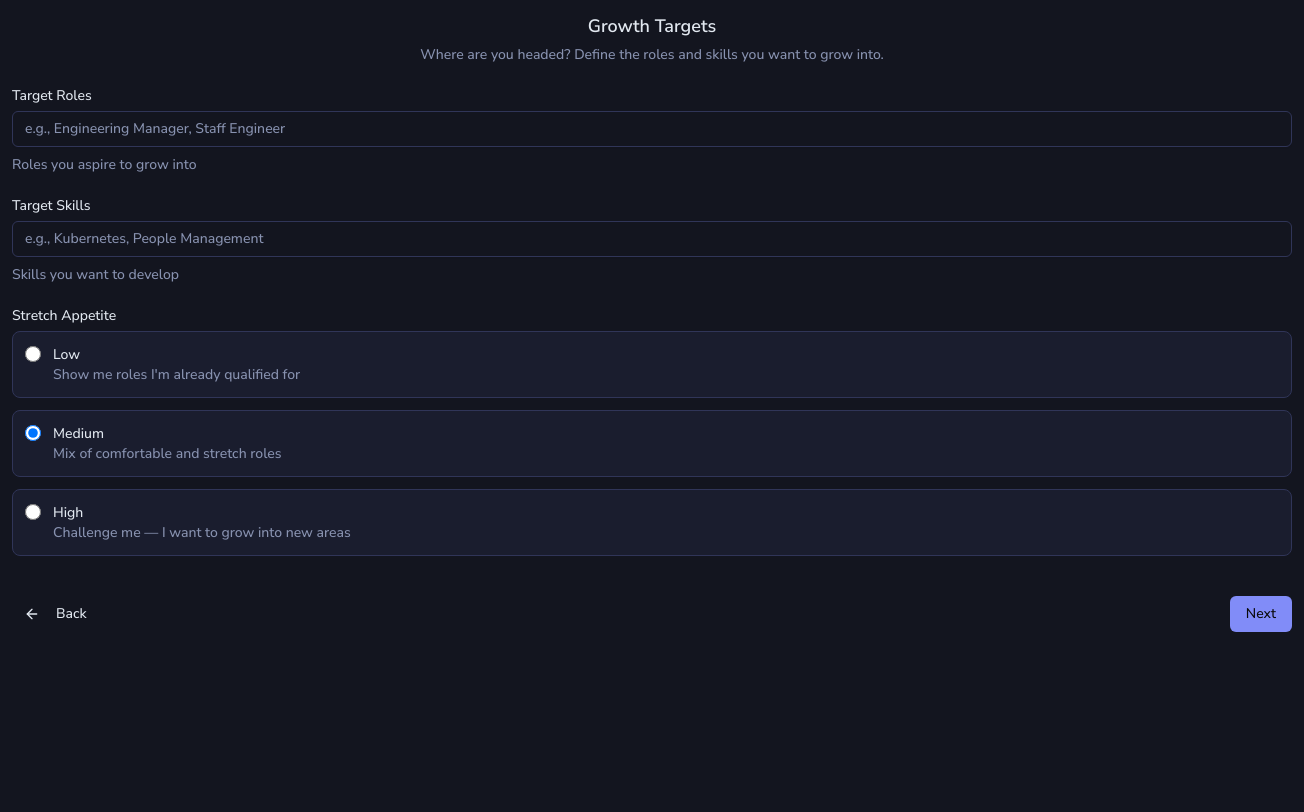
Test: GrowthTargetsStep › submit › shows error on failed PATCH
Expected: the form with test id "growth-targets-form" is shown, 12,89 -> 1292,556
What coordinates should you click on to do the following:
click the button with test id "submit-button"
I would click on:
 (1261, 614)
Its box is 1230,596 -> 1292,632.
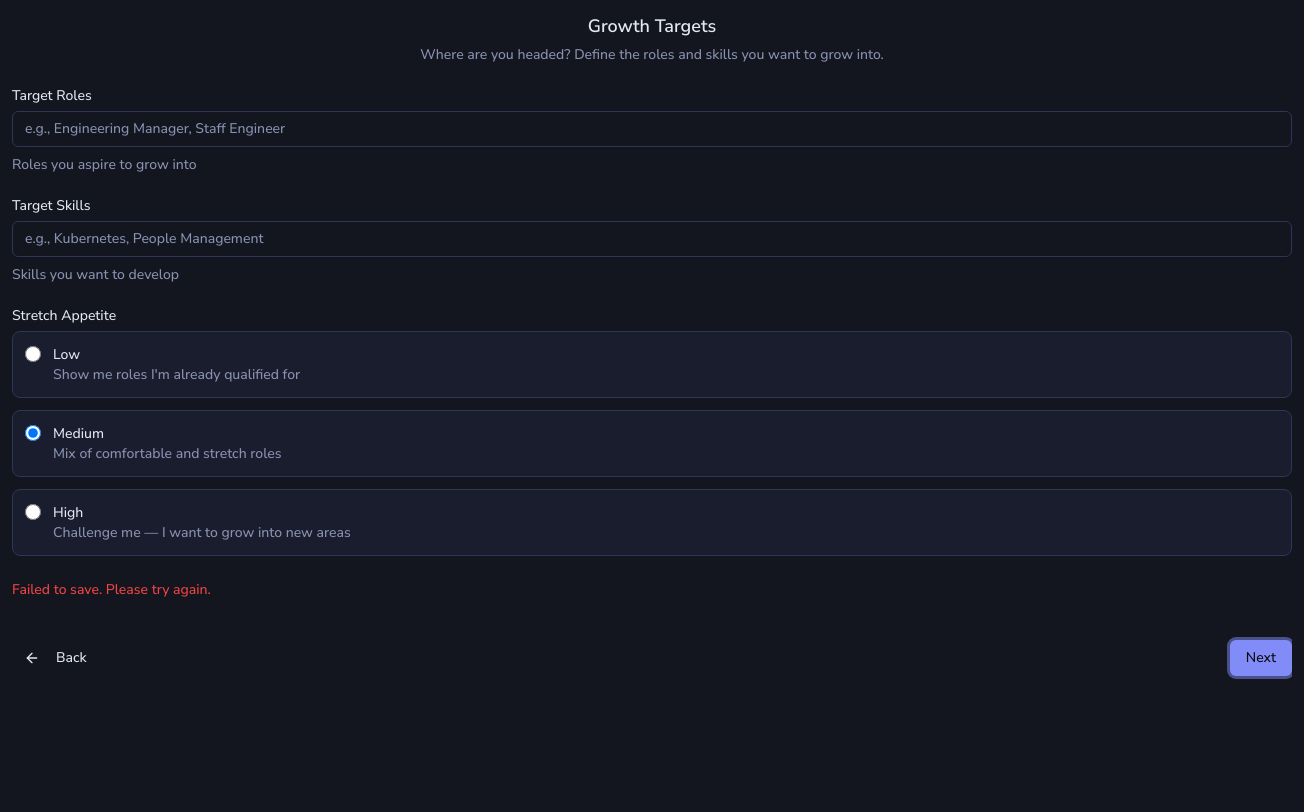
Now the text "Failed to save. Please try again." is shown, box 12,580 -> 211,599
